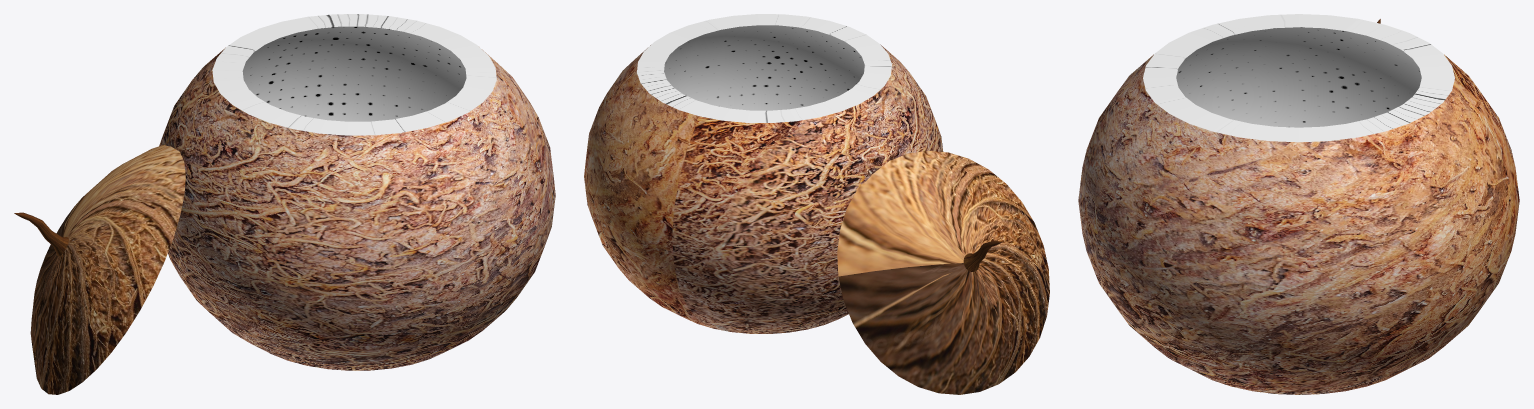
Rendered from coconut.fbx.
3 views of the same model, side by side, from view 1: azimuth 30°, elevation 25°; view 2: azimuth 150°, elevation 25°; view 3: azimuth 270°, elevation 25° (orthographic). The views are drawn at different scales.
Visible parts, largest first — view 1: Sphere001, Sphere003, Sphere002, Cylinder001; view 2: Sphere001, Sphere003, Sphere002, Cylinder001; view 3: Sphere001, Sphere002.
Part boxes in pixels (x1,y1,x2,y2): Sphere001: (159,14,555,370); Sphere003: (30,145,185,394); Sphere002: (242,25,467,121); Cylinder001: (14,212,68,256); Sphere001: (584,14,943,333); Sphere003: (837,150,1049,394); Sphere002: (663,24,865,110); Cylinder001: (963,240,1001,271); Sphere001: (1078,14,1519,394); Sphere002: (1175,26,1422,127).
Size of the model in its own units: 41.79 by 22.54 by 31.28.
